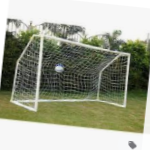goals: (10, 33, 132, 113)
